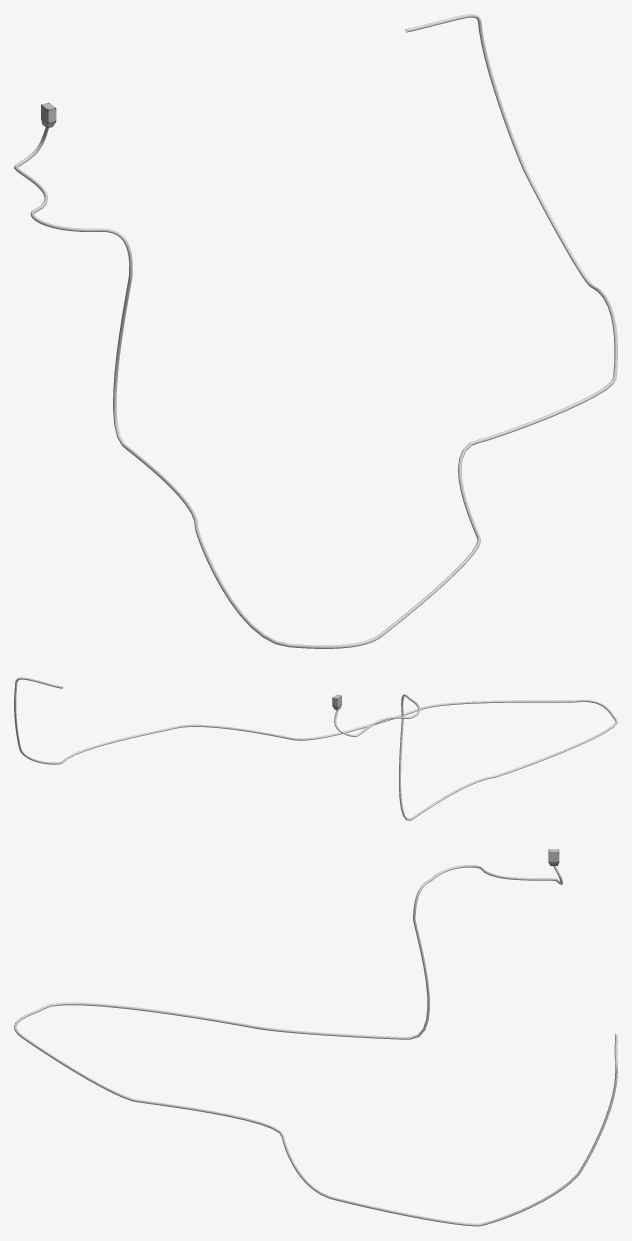
Rendered from wire_radio_kitchen.fbx.
The picture shows the model from 3 angles, top to bottom: view 1: azimuth 30°, elevation 25°; view 2: azimuth 150°, elevation 25°; view 3: azimuth 270°, elevation 25°; orthographic projection. The views are drawn at different scales.
Parts seen in each view (by area): view 1: wire_radio_kitchen.003; view 2: wire_radio_kitchen.003; view 3: wire_radio_kitchen.003.
Part boxes in pixels (x1,y1,x2,y2): wire_radio_kitchen.003: (14, 14, 617, 648); wire_radio_kitchen.003: (14, 677, 617, 820); wire_radio_kitchen.003: (14, 865, 617, 1226).
Size of the model in its own units: 3.95 by 1.63 by 4.54.
Materials: 1 (1 with a texture image).
